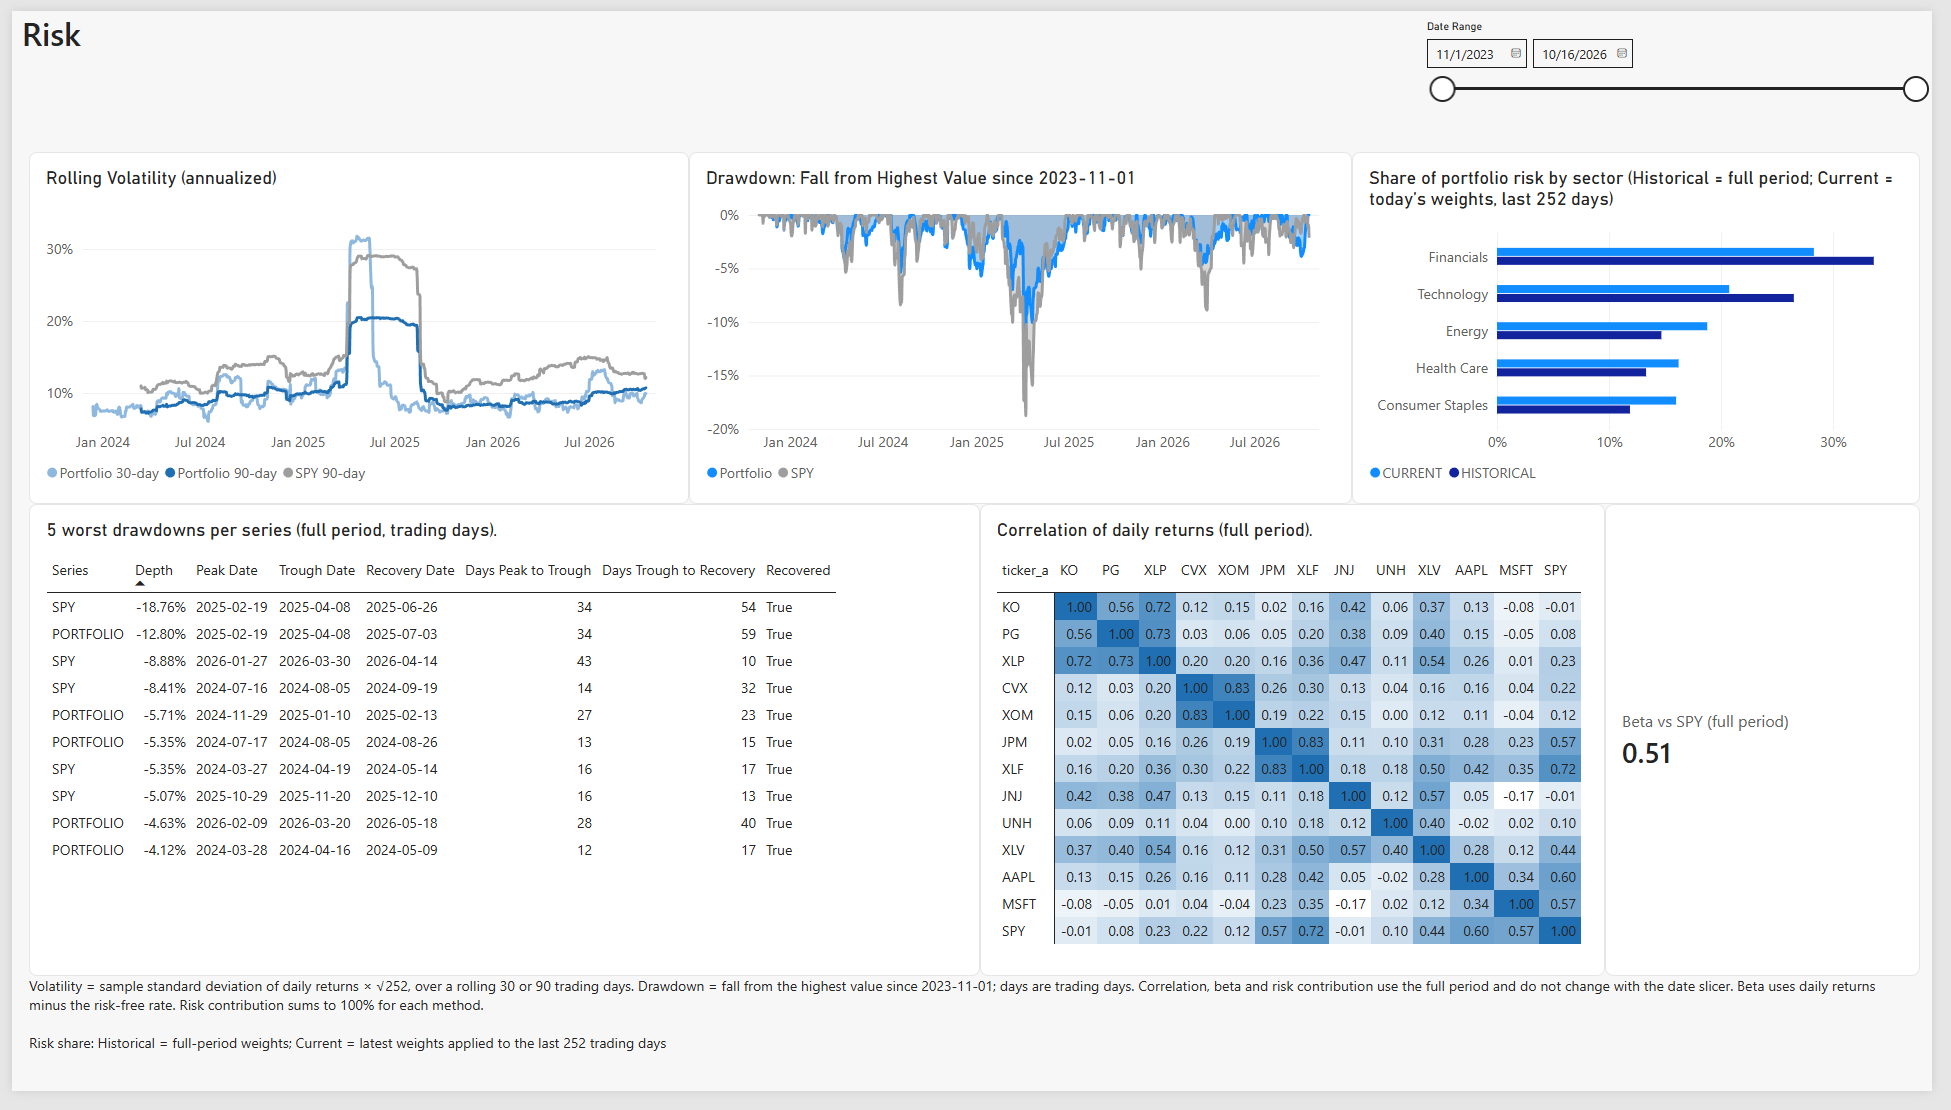

The page's visual inventory and layout, read from the dashboard file:
{"tool":"powerbi","page":{"name":"Risk","canvas":[1920,1080],"ordinal":2},"visuals":[{"type":"textbox","box":[10.4,0,68.5,46.7],"z":0},{"type":"cardVisual","fields":{"Data":["_Measures.Beta (Full Period)"]},"box":[1593,493,315,472],"z":1000},{"type":"lineChart","title":"Rolling Volatility (annualized)","fields":{"Category":["dim_date.date_key"],"Y":["Sum(fact_daily_portfolio.vol30_p)","Sum(fact_daily_portfolio.vol90_p)","Sum(fact_daily_portfolio.vol90_spy)"]},"box":[17.4,141.4,659.7,351.6],"z":2000},{"type":"areaChart","title":"Drawdown: Fall from Highest Value since 2023-11-01","fields":{"Category":["dim_date.date_key"],"Y":["Sum(fact_daily_portfolio.dd_p)","Sum(fact_daily_portfolio.dd_spy)"]},"box":[677.1,141.4,662.8,351.6],"z":3000},{"type":"tableEx","title":"5 worst drawdowns per series (full period, trading days).","fields":{"Values":["fact_drawdown_episodes.series","Sum(fact_drawdown_episodes.depth)","fact_drawdown_episodes.peak_date","fact_drawdown_episodes.trough_date","fact_drawdown_episodes.recovery_date","Sum(fact_drawdown_episodes.days_to_trough)","Sum(fact_drawdown_episodes.days_to_recover)","fact_drawdown_episodes.recovered"]},"box":[17,493,951,472],"z":4000},{"type":"pivotTable","title":"Correlation of daily returns (full period).","fields":{"Columns":["fact_correlation.ticker_b"],"Rows":["fact_correlation.ticker_a"],"Values":["Sum(fact_correlation.correlation)"]},"box":[968,493,625,472],"z":5000},{"type":"clusteredBarChart","title":"Share of portfolio risk by sector (Historical = full period; Current = today’s weights, last 252 days)","fields":{"Category":["dim_security.sector"],"Series":["fact_risk_contribution.method"],"Y":["Sum(fact_risk_contribution.risk_contribution)"]},"box":[1339.9,141.4,568.4,351.6],"z":6000},{"type":"textbox","box":[17,965,1884,81],"z":7000},{"type":"slicer","fields":{"Values":["dim_date.date_key"]},"box":[1406.6,8.8,513.4,97.2],"z":8000}]}

Visuals, with their boxes in screenshot pixels (x1, y1, x2, y2), scaled from the page's 1920x1080 canvas onto the 1951x1110 screenshot:
textbox: crop(11, 0, 80, 48)
cardVisual - _Measures.Beta (Full Period): crop(1619, 507, 1939, 992)
"Rolling Volatility (annualized)" lineChart: crop(18, 145, 688, 507)
"Drawdown: Fall from Highest Value since 2023-11-01" areaChart: crop(688, 145, 1362, 507)
"5 worst drawdowns per series (full period, trading days)." tableEx: crop(17, 507, 984, 992)
"Correlation of daily returns (full period)." pivotTable: crop(984, 507, 1619, 992)
"Share of portfolio risk by sector (Historical = full period; Current = today’s weights, last 252 days)" clusteredBarChart: crop(1362, 145, 1939, 507)
textbox: crop(17, 992, 1932, 1075)
slicer - dim_date.date_key: crop(1429, 9, 1950, 109)
